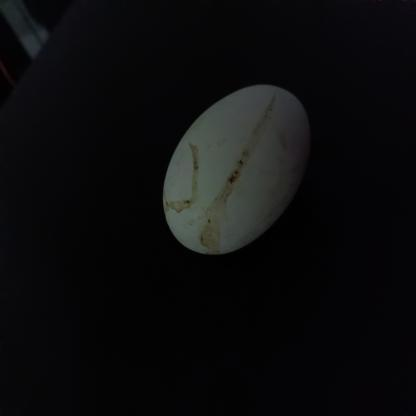egg: (162, 82, 312, 256)
